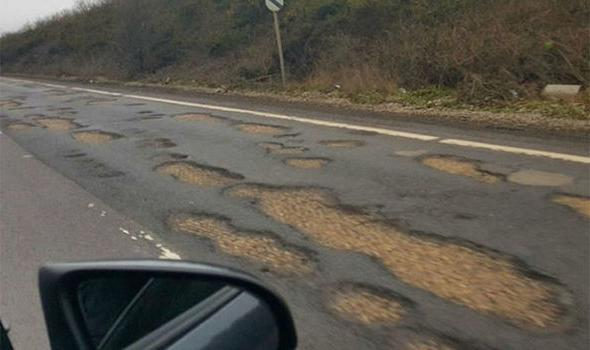pothole: (217, 178, 570, 348), (145, 204, 321, 274), (396, 152, 540, 189), (314, 279, 423, 325), (56, 142, 136, 200), (170, 108, 296, 140), (150, 158, 246, 192), (34, 114, 125, 146), (238, 138, 302, 164), (272, 155, 332, 175), (142, 132, 182, 156), (318, 137, 367, 151), (0, 91, 27, 114), (138, 106, 163, 128), (5, 117, 34, 135), (83, 95, 119, 109), (120, 98, 146, 113)
